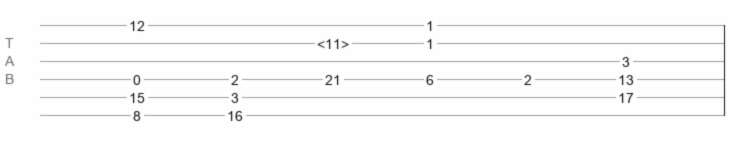0: (133, 72, 141, 82)
1: (426, 36, 434, 46), (426, 18, 434, 28)
12: (129, 18, 145, 28)
13: (618, 72, 634, 82)
15: (129, 90, 145, 100)
16: (227, 108, 243, 118)
17: (618, 90, 634, 100)
2: (231, 72, 239, 82), (524, 72, 532, 82)
21: (325, 72, 341, 82)
3: (231, 90, 239, 100), (622, 54, 630, 64)
6: (426, 72, 434, 82)
8: (133, 108, 141, 118)
harmonic: (317, 36, 349, 46)
